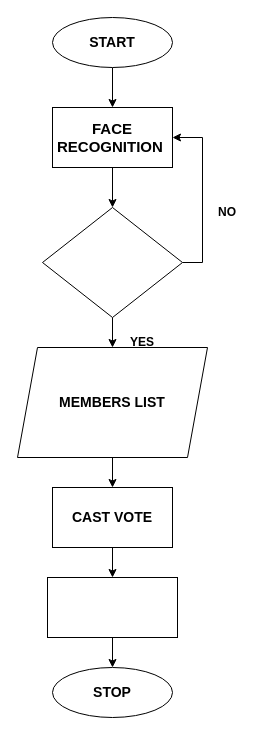
The diagram is 275 pixels wide and 735 high, and some of its shapes have lost their labels. Each missing label, with the box of its shape:
AUTHENTICATE: (42, 206, 182, 318)
DISPLAY RESULTS: (46, 576, 178, 638)
